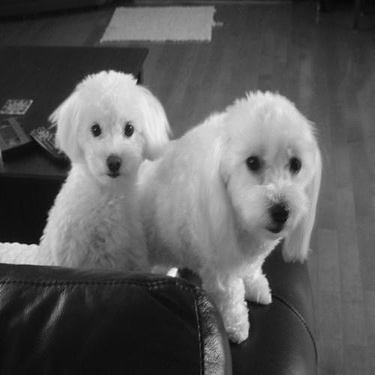dog: (130, 79, 326, 348), (29, 55, 178, 282)
